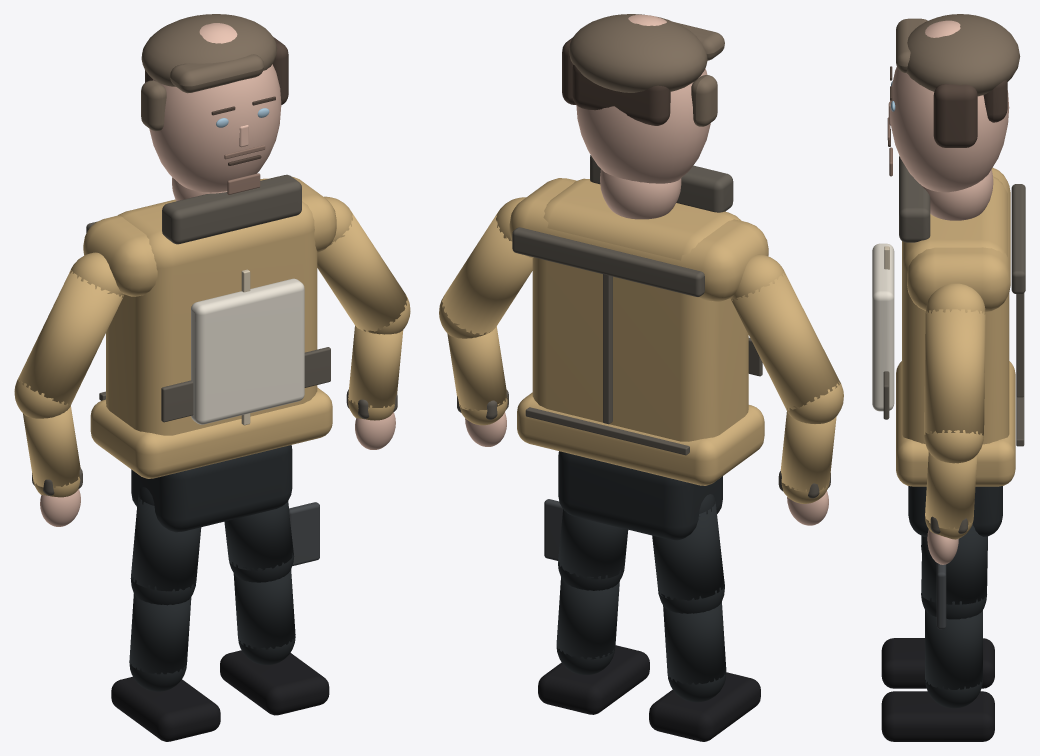
Rendered from ryan-avatar.glb.
The picture shows the model from 3 angles, left to right: view 1: azimuth 30°, elevation 25°; view 2: azimuth 150°, elevation 25°; view 3: azimuth 270°, elevation 25°; orthographic projection. The views are drawn at different scales.
Visible parts, largest first — view 1: oak tan jacket torso, off-white shirt visible at jacket opening, stylized head, slightly wider jacket hem, onyx black pelvis, left tan jacket upper sleeve shaft, right tan jacket upper sleeve shaft, dark contrast collar, brown hair cap, relaxed jacket shoulders, left shoe, right shoe (+20 smaller); view 2: oak tan jacket torso, onyx black pelvis, slightly wider jacket hem, brown hair cap, stylized head, left tan jacket upper sleeve shaft, relaxed jacket shoulders, right tan jacket upper sleeve shaft, rear jacket shoulder yoke, left onyx pant upper leg shaft, right shoe, left shoe (+21 smaller); view 3: oak tan jacket torso, stylized head, right tan jacket upper sleeve shaft, brown hair cap, relaxed jacket shoulders, right shoe, slightly wider jacket hem, right onyx pant lower leg shaft, off-white shirt visible at jacket opening, right onyx pant upper leg shaft, right tan jacket forearm shaft, right side hair volume (+17 smaller).
Part boxes in pixels (box(x1,y1,x2,y2)): oak tan jacket torso: box(106, 178, 317, 435); off-white shirt visible at jacket opening: box(191, 278, 304, 424); stylized head: box(149, 23, 281, 192); slightly wider jacket hem: box(90, 387, 332, 478); onyx black pelvis: box(131, 445, 292, 532); left tan jacket upper sleeve shaft: box(17, 270, 123, 405); right tan jacket upper sleeve shaft: box(317, 211, 407, 332); dark contrast collar: box(162, 174, 301, 244); brown hair cap: box(141, 14, 276, 86); relaxed jacket shoulders: box(83, 176, 336, 296); left shoe: box(111, 676, 220, 741); right shoe: box(220, 650, 329, 715); oak tan jacket torso: box(532, 178, 748, 441); onyx black pelvis: box(558, 451, 722, 540); slightly wider jacket hem: box(517, 392, 764, 485); brown hair cap: box(569, 14, 707, 92); stylized head: box(576, 14, 710, 183); left tan jacket upper sleeve shaft: box(731, 271, 840, 410); relaxed jacket shoulders: box(509, 178, 768, 301); right tan jacket upper sleeve shaft: box(442, 211, 532, 334); rear jacket shoulder yoke: box(512, 227, 704, 296); left onyx pant upper leg shaft: box(652, 502, 724, 600); right shoe: box(538, 645, 649, 714); left shoe: box(649, 672, 760, 741); oak tan jacket torso: box(902, 176, 1009, 444); stylized head: box(890, 20, 1009, 192); right tan jacket upper sleeve shaft: box(924, 309, 985, 435); brown hair cap: box(906, 14, 1020, 96); relaxed jacket shoulders: box(907, 167, 1010, 311); right shoe: box(881, 691, 994, 741); slightly wider jacket hem: box(896, 361, 1015, 486); right onyx pant lower leg shaft: box(925, 610, 982, 689); off-white shirt visible at jacket opening: box(872, 243, 894, 411); right onyx pant upper leg shaft: box(921, 524, 987, 604); right tan jacket forearm shaft: box(925, 451, 977, 529); right side hair volume: box(933, 84, 977, 147).
Bounding box in the file's own units: 1.43 × 2.38 × 0.4875.
